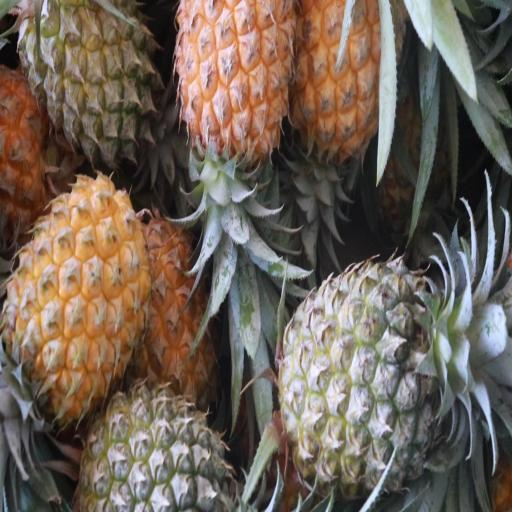------------------------------: (24, 0, 161, 161)
Pineapple - v8 v1: (0, 174, 147, 418), (175, 0, 294, 161), (292, 0, 402, 158), (134, 219, 226, 407)
